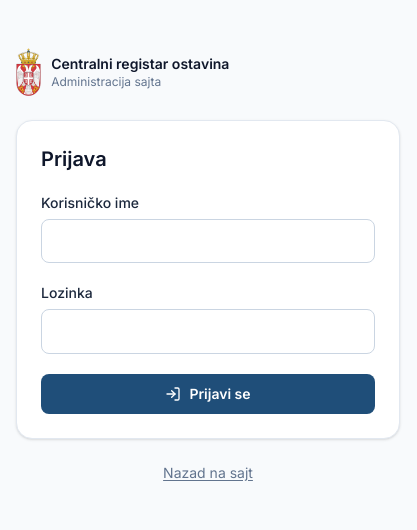
Test: administracija › bez sesije prikazuje prijavu; pogrešna lozinka daje grešku
Check: the heading "Prijava" is shown, box x1=41 y1=146 x2=107 y2=170
Type "admin" into the field labelled "Korisničko ime" at {"x": 208, "y": 241}, box x1=41 y1=218 x2=375 y2=263
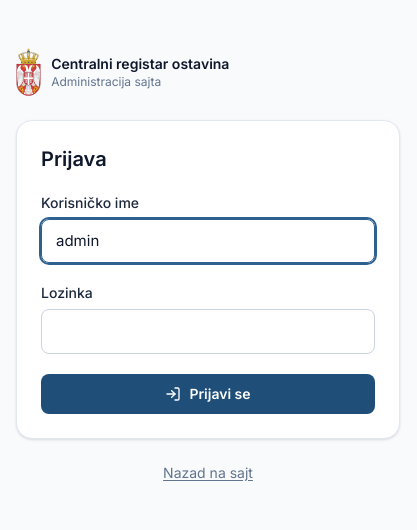
Type "pogresna" into the password field labelled "Lozinka" at {"x": 208, "y": 331}, box x1=41 y1=309 x2=375 y2=354
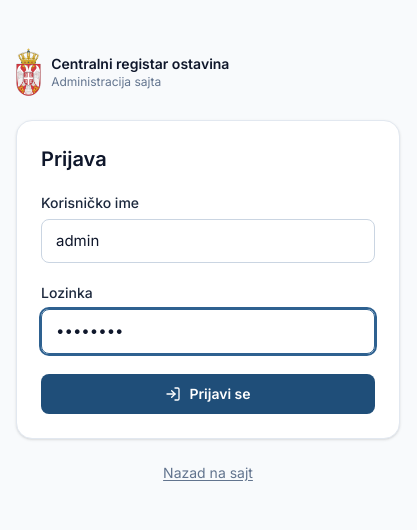
Click the button "Prijavi se" at {"x": 208, "y": 394}, box x1=41 y1=374 x2=375 y2=414
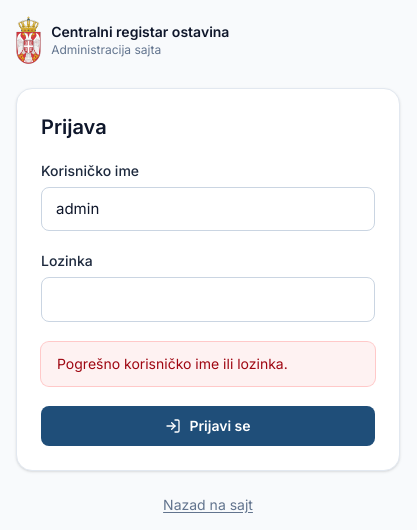
Check: the message reads "Pogrešno korisničko ime ili lozinka.", box x1=57 y1=354 x2=288 y2=372
Check: the password field labelled "Lozinka" is empty, box x1=41 y1=277 x2=375 y2=322
